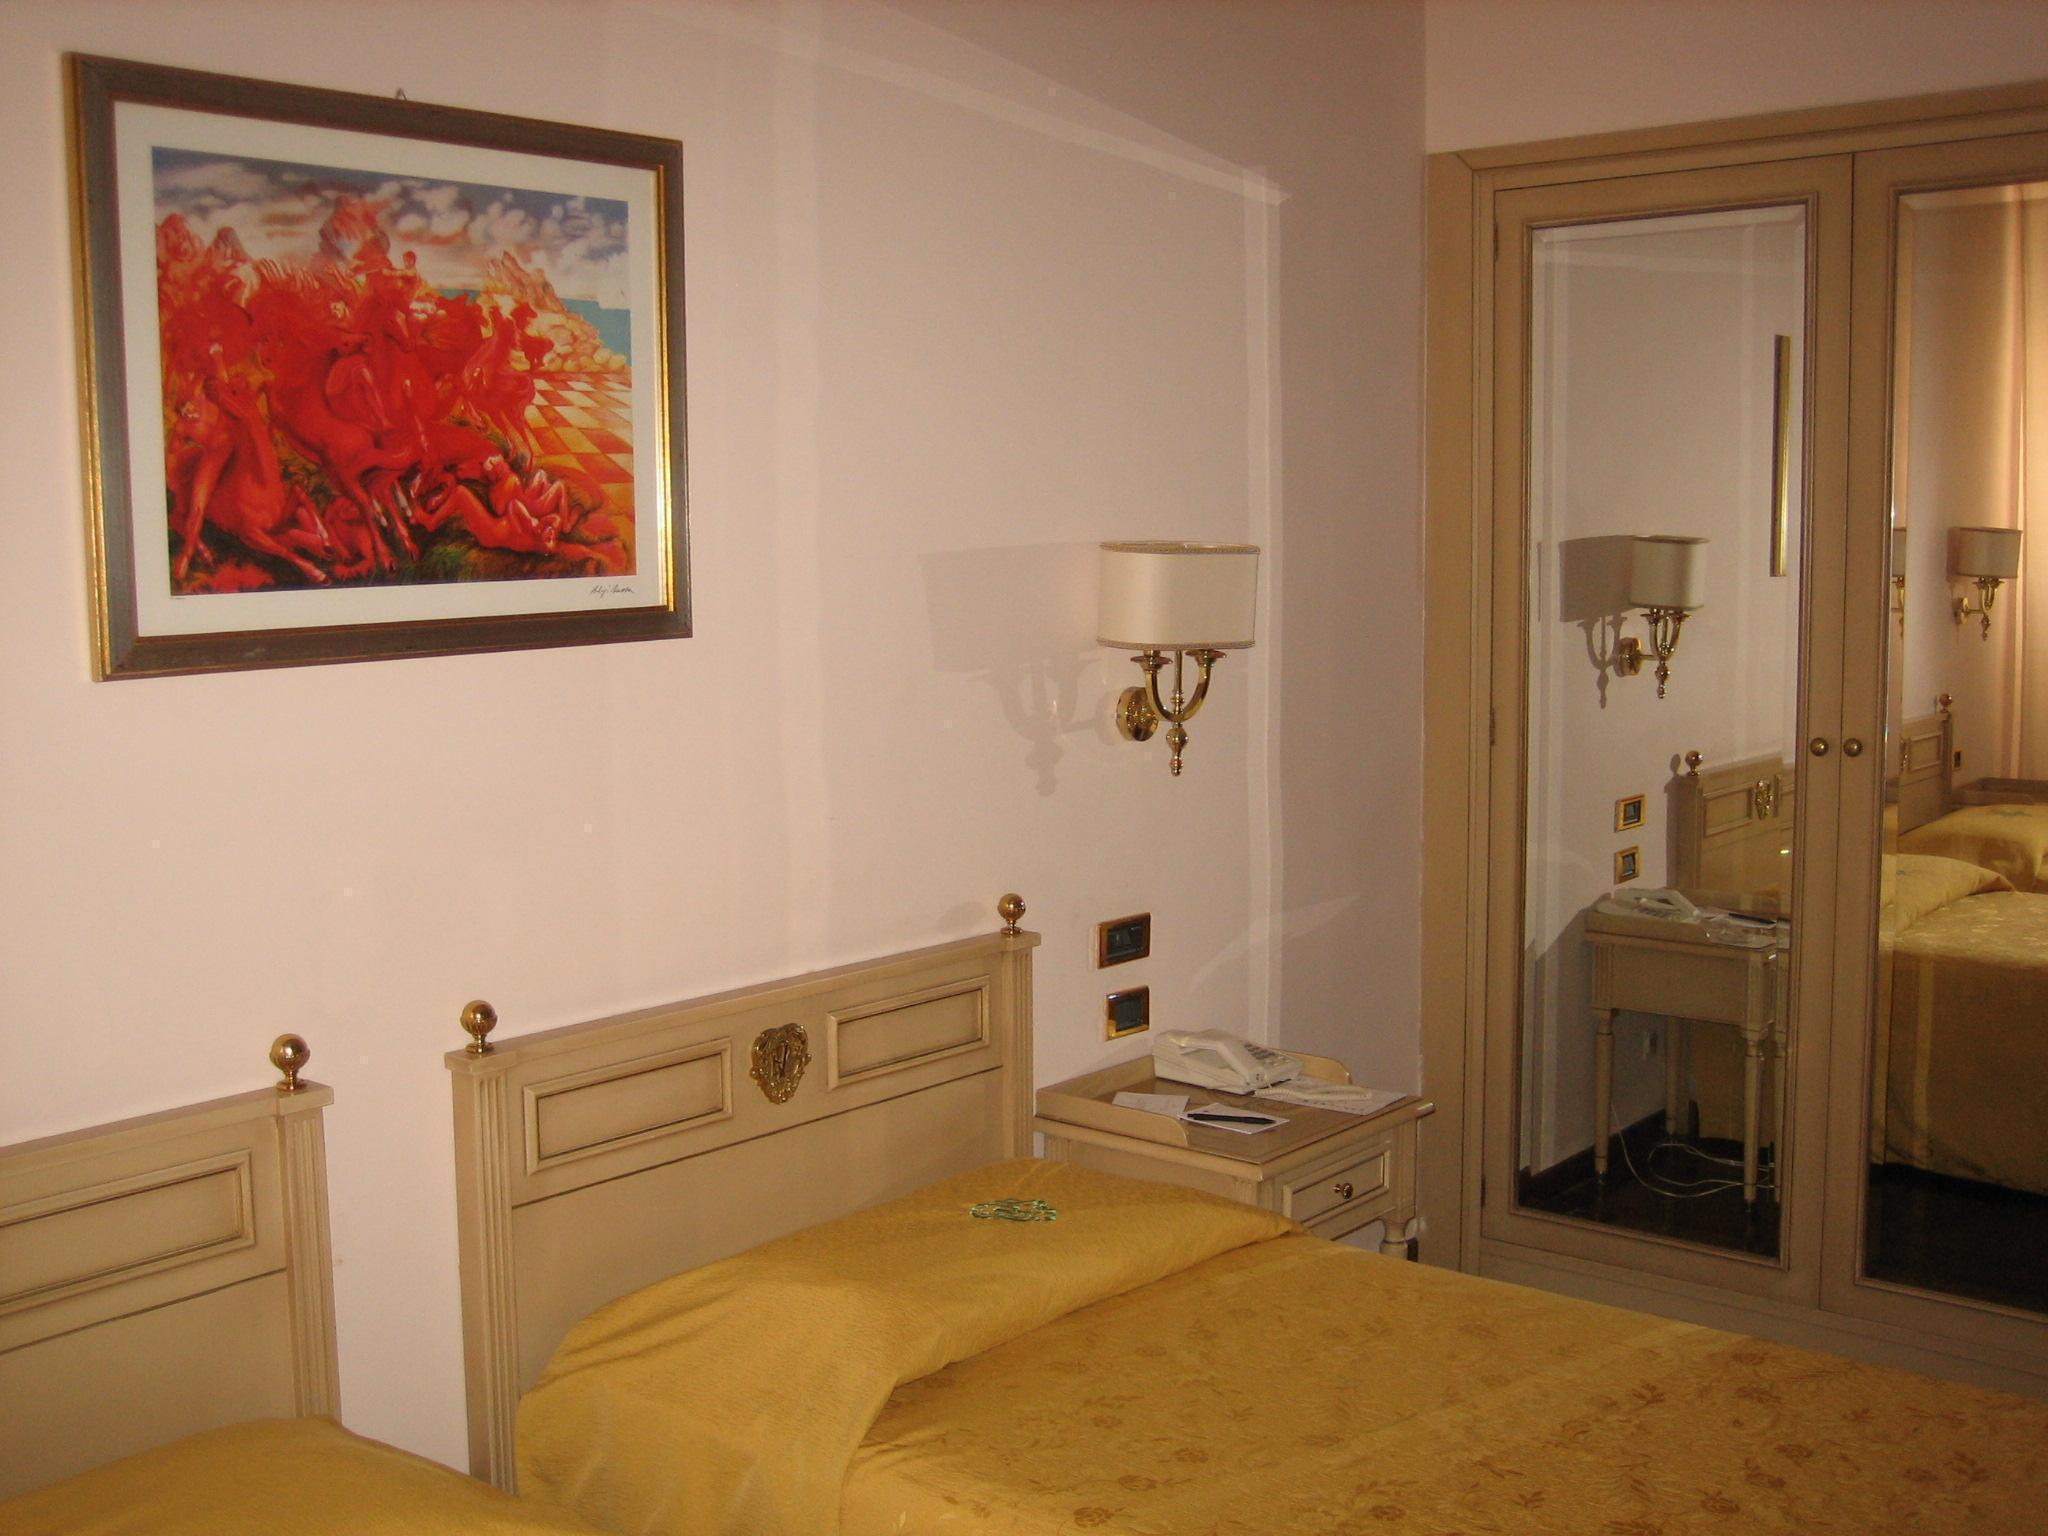Cama: (434, 971, 2040, 1526), (10, 1076, 569, 1530)
Puerta: (1440, 137, 2038, 1354)
